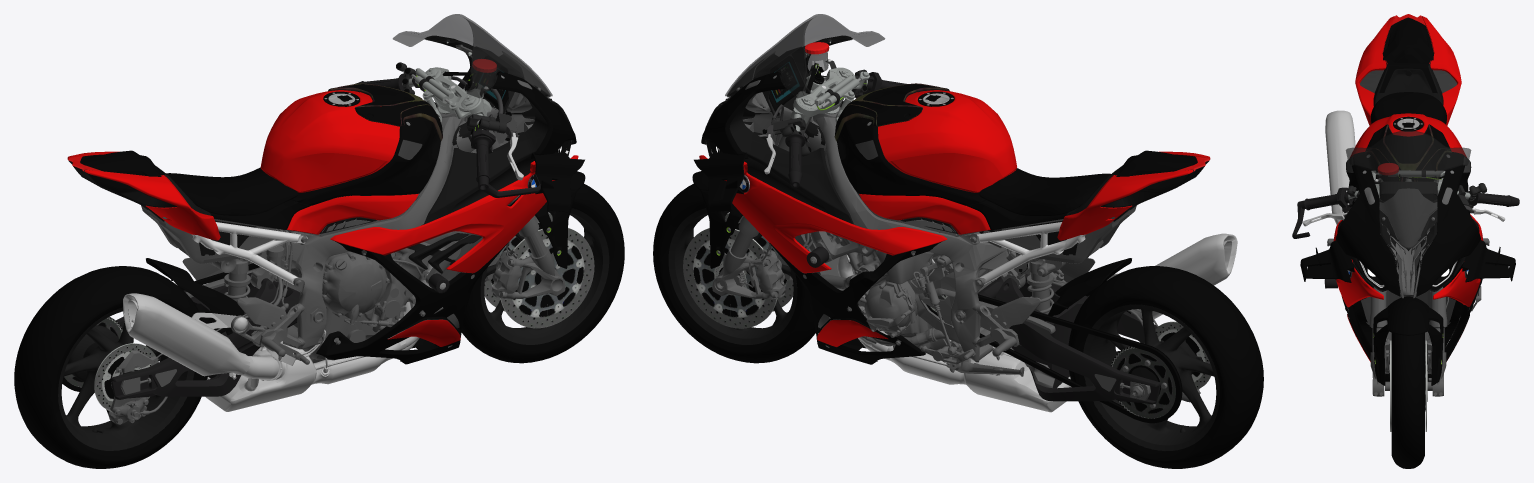
Rendered from bmw-s1000rr.glb.
3 views of the same model, side by side, from view 1: azimuth 30°, elevation 25°; view 2: azimuth 150°, elevation 25°; view 3: azimuth 270°, elevation 25° (orthographic). The views are drawn at different scales.
Visible parts, largest first — view 1: body, wheel_rear_mesh, wheel_front_mesh; view 2: body, wheel_rear_mesh, wheel_front_mesh; view 3: body, wheel_front_mesh.
Part boxes in pixels (box(x1,y1,x2,y2)): body: box(62, 14, 585, 433); wheel_rear_mesh: box(14, 266, 207, 468); wheel_front_mesh: box(461, 184, 624, 363); body: box(692, 14, 1237, 432); wheel_rear_mesh: box(1068, 266, 1263, 468); wheel_front_mesh: box(653, 183, 815, 363); body: box(1292, 14, 1519, 396); wheel_front_mesh: box(1374, 333, 1442, 468).
Size of the model in its own units: 2.07 by 1.19 by 0.8118.
74 materials, 27 textured.
